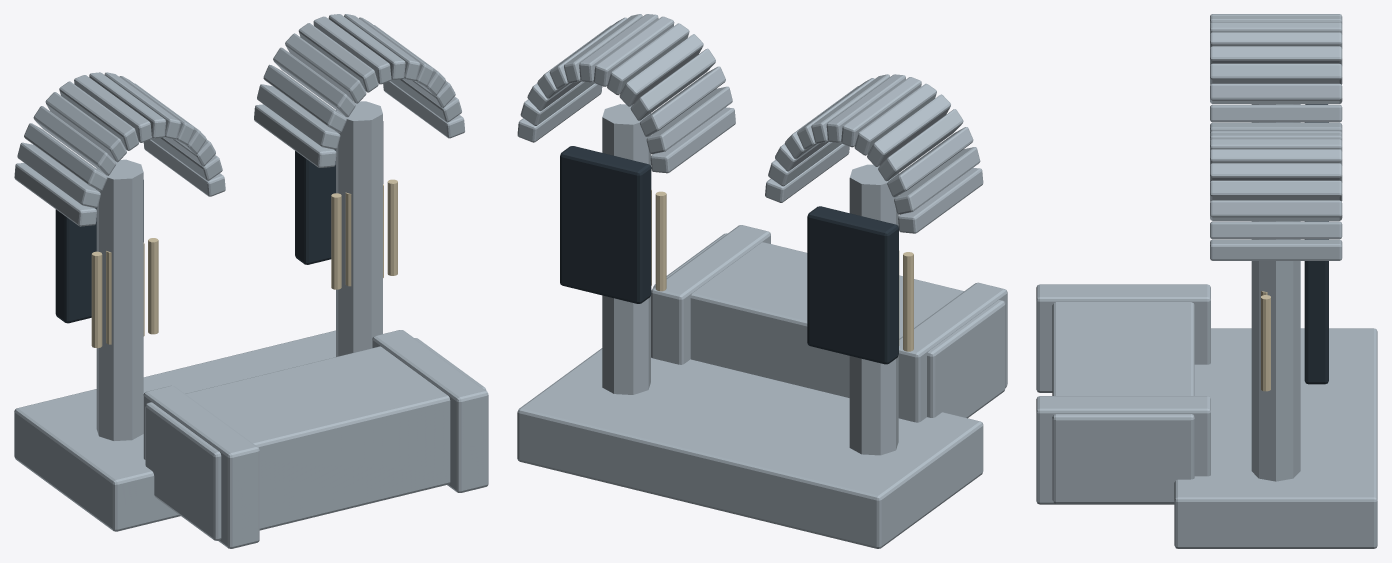
Rendered from a3_secondary.glb.
The picture shows the model from 3 angles, left to right: view 1: azimuth 30°, elevation 25°; view 2: azimuth 150°, elevation 25°; view 3: azimuth 270°, elevation 25°; orthographic projection. The views are drawn at different scales.
Visible parts, largest first — view 1: Body.078; view 2: Body.078; view 3: Body.078.
Boxes of the visible parts, x1,y1,x2,y2 form: Body.078: (14, 14, 488, 548); Body.078: (517, 14, 1007, 548); Body.078: (1036, 14, 1377, 548).
Size of the model in its own units: 2.2 by 2.09 by 1.68.
